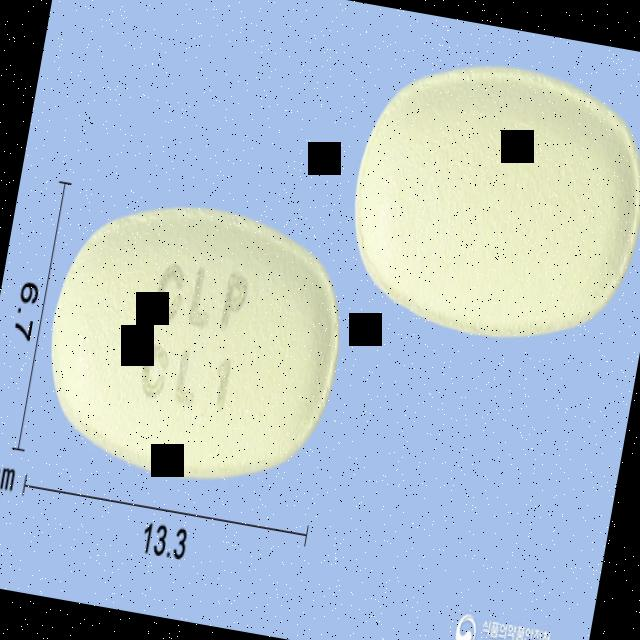Celltrion Clarithromycin - 500mg: (27, 180, 361, 506)
